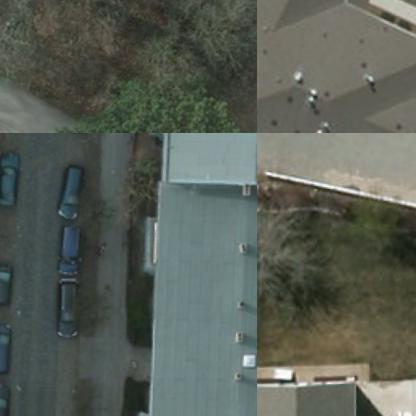car: (52, 160, 90, 219), (52, 218, 86, 276), (51, 278, 84, 334), (0, 150, 31, 208), (0, 320, 19, 374), (0, 260, 19, 309), (0, 383, 18, 415)
